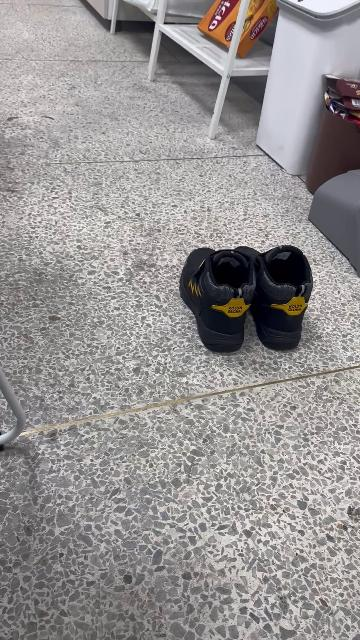shoe_worn: (182, 244, 258, 358), (233, 245, 313, 351)
